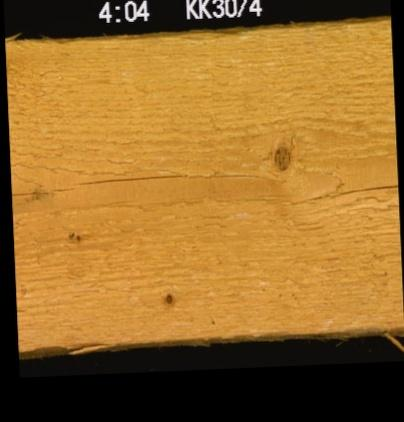small_knot: (63, 224, 83, 246), (160, 288, 176, 306)
split: (11, 170, 272, 193), (286, 182, 397, 206), (269, 139, 294, 172)
